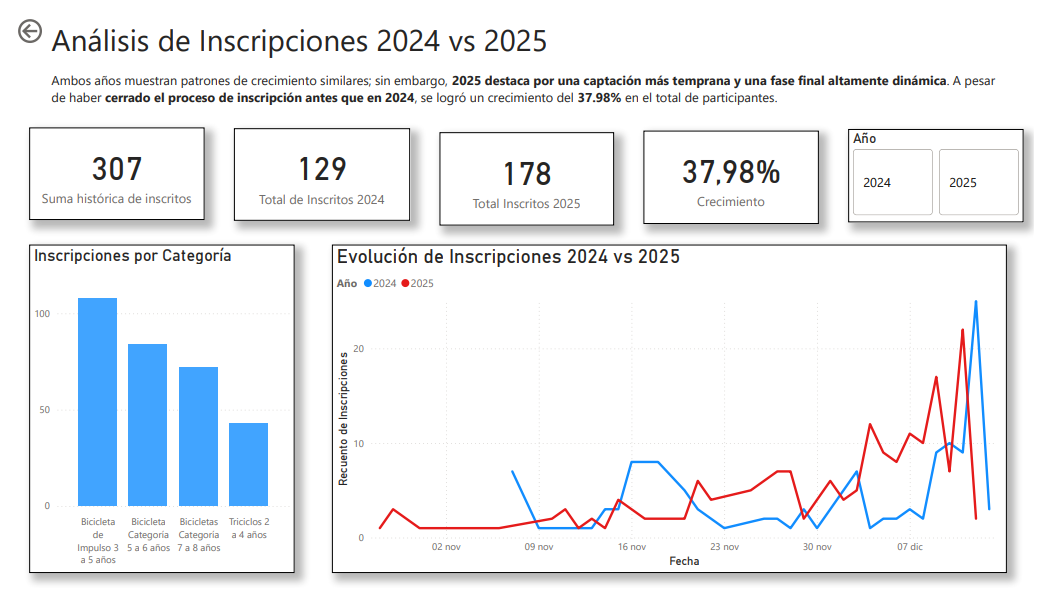

The page's visual inventory and layout, read from the dashboard file:
{"tool":"powerbi","page":{"name":"Página 1","canvas":[1280,720],"ordinal":0},"visuals":[{"type":"lineChart","title":"Evolución de Inscripciones 2024 vs 2025","fields":{"Y":["CountNonNull(Datos-Combinados.Nombres y Apellidos del niño o niña)"],"Category":["Datos-Combinados.Fecha_Alineada"],"Series":["Datos-Combinados.Año"]},"box":[399.4,288,846.3,411.6],"z":0},{"type":"actionButton","box":[0,0,100,40],"z":1000},{"type":"card","fields":{"Values":["CountNonNull(Datos-Combinados.Nombres y Apellidos del niño o niña)"]},"box":[19,141.3,220.1,115.5],"z":2000},{"type":"card","fields":{"Values":["CountNonNull(Datos-Combinados.Nombres y Apellidos del niño o niña)"]},"box":[276.5,141.6,220.1,116.8],"z":3000},{"type":"card","fields":{"Values":["CountNonNull(Datos-Combinados.Nombres y Apellidos del niño o niña)"]},"box":[533.9,146.7,218.7,116.8],"z":4000},{"type":"card","title":"Crecimiento Interanual (%)","fields":{"Values":["Datos-Combinados.Crecimiento"]},"box":[790,145,220.1,116.8],"z":5000},{"type":"clusteredColumnChart","title":"Inscripciones por Categoría","fields":{"Category":["Datos-Combinados.Categoría en la que participará. Tenga en cuenta que es necesario seleccionar una única categoría en la"],"Y":["CountNonNull(Datos-Combinados.Nombres y Apellidos del niño o niña)"]},"box":[19,288,332.8,411.6],"z":6000},{"type":"textbox","box":[42.1,0,1195.5,141.3],"z":7000},{"type":"advancedSlicerVisual","fields":{"Values":["Datos-Combinados.Año"]},"box":[1047.4,143.3,220.1,116.8],"z":8000}]}

Visuals, with their boxes in screenshot pixels (x1, y1, x2, y2), scaled from the page's 1280x720 canvas onto the 1049x602 screenshot:
"Evolución de Inscripciones 2024 vs 2025" lineChart: (327, 241, 1021, 585)
actionButton: (0, 0, 82, 33)
card - CountNonNull(Datos-Combinados.Nombres y Apellidos del niño o niña): (16, 118, 196, 215)
card - CountNonNull(Datos-Combinados.Nombres y Apellidos del niño o niña): (227, 118, 407, 216)
card - CountNonNull(Datos-Combinados.Nombres y Apellidos del niño o niña): (438, 123, 617, 220)
"Crecimiento Interanual (%)" card: (647, 121, 828, 219)
"Inscripciones por Categoría" clusteredColumnChart: (16, 241, 288, 585)
textbox: (35, 0, 1014, 118)
advancedSlicerVisual - Datos-Combinados.Año: (858, 120, 1039, 217)
